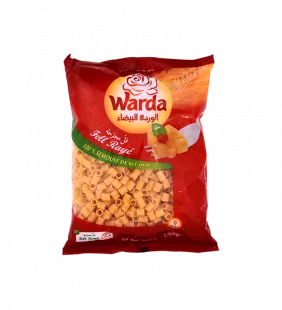LA ROSE BLANCHE: (53, 45, 228, 260)
